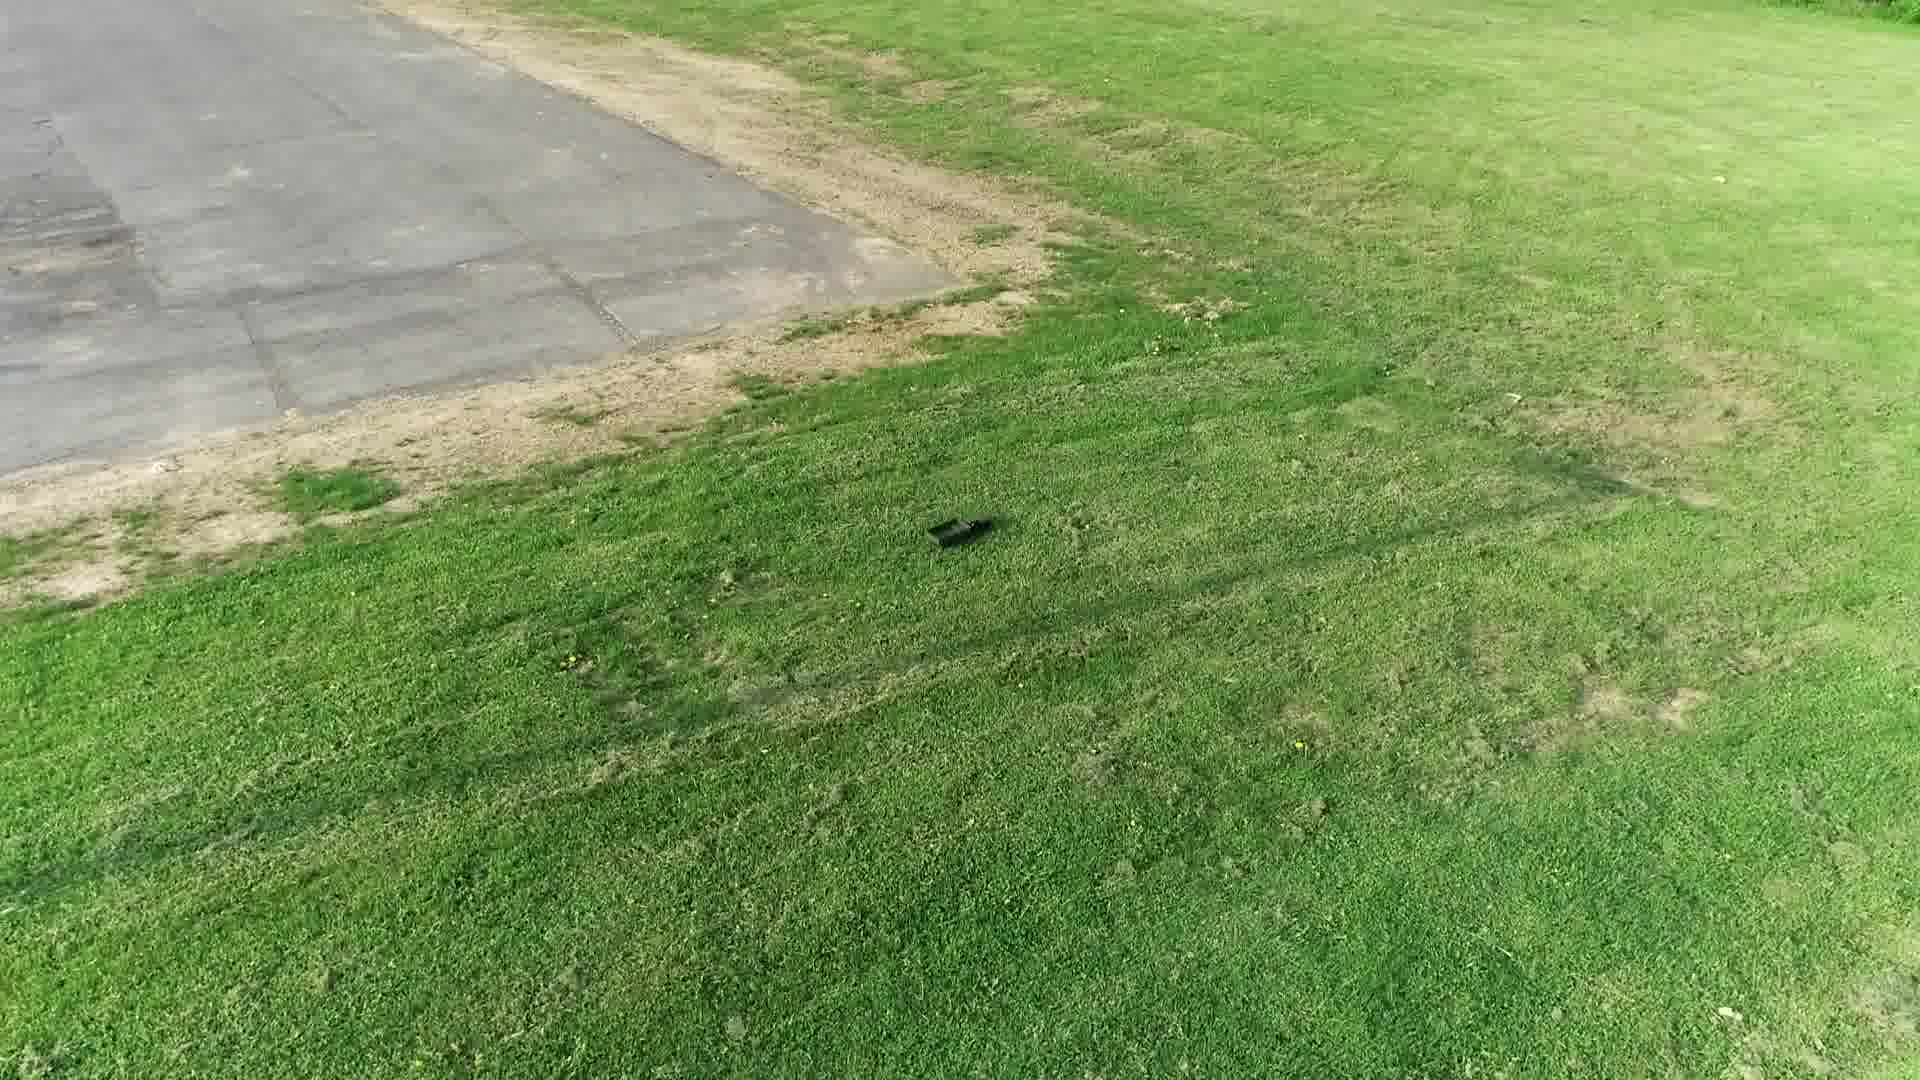transporter9: (920, 510, 992, 551)
